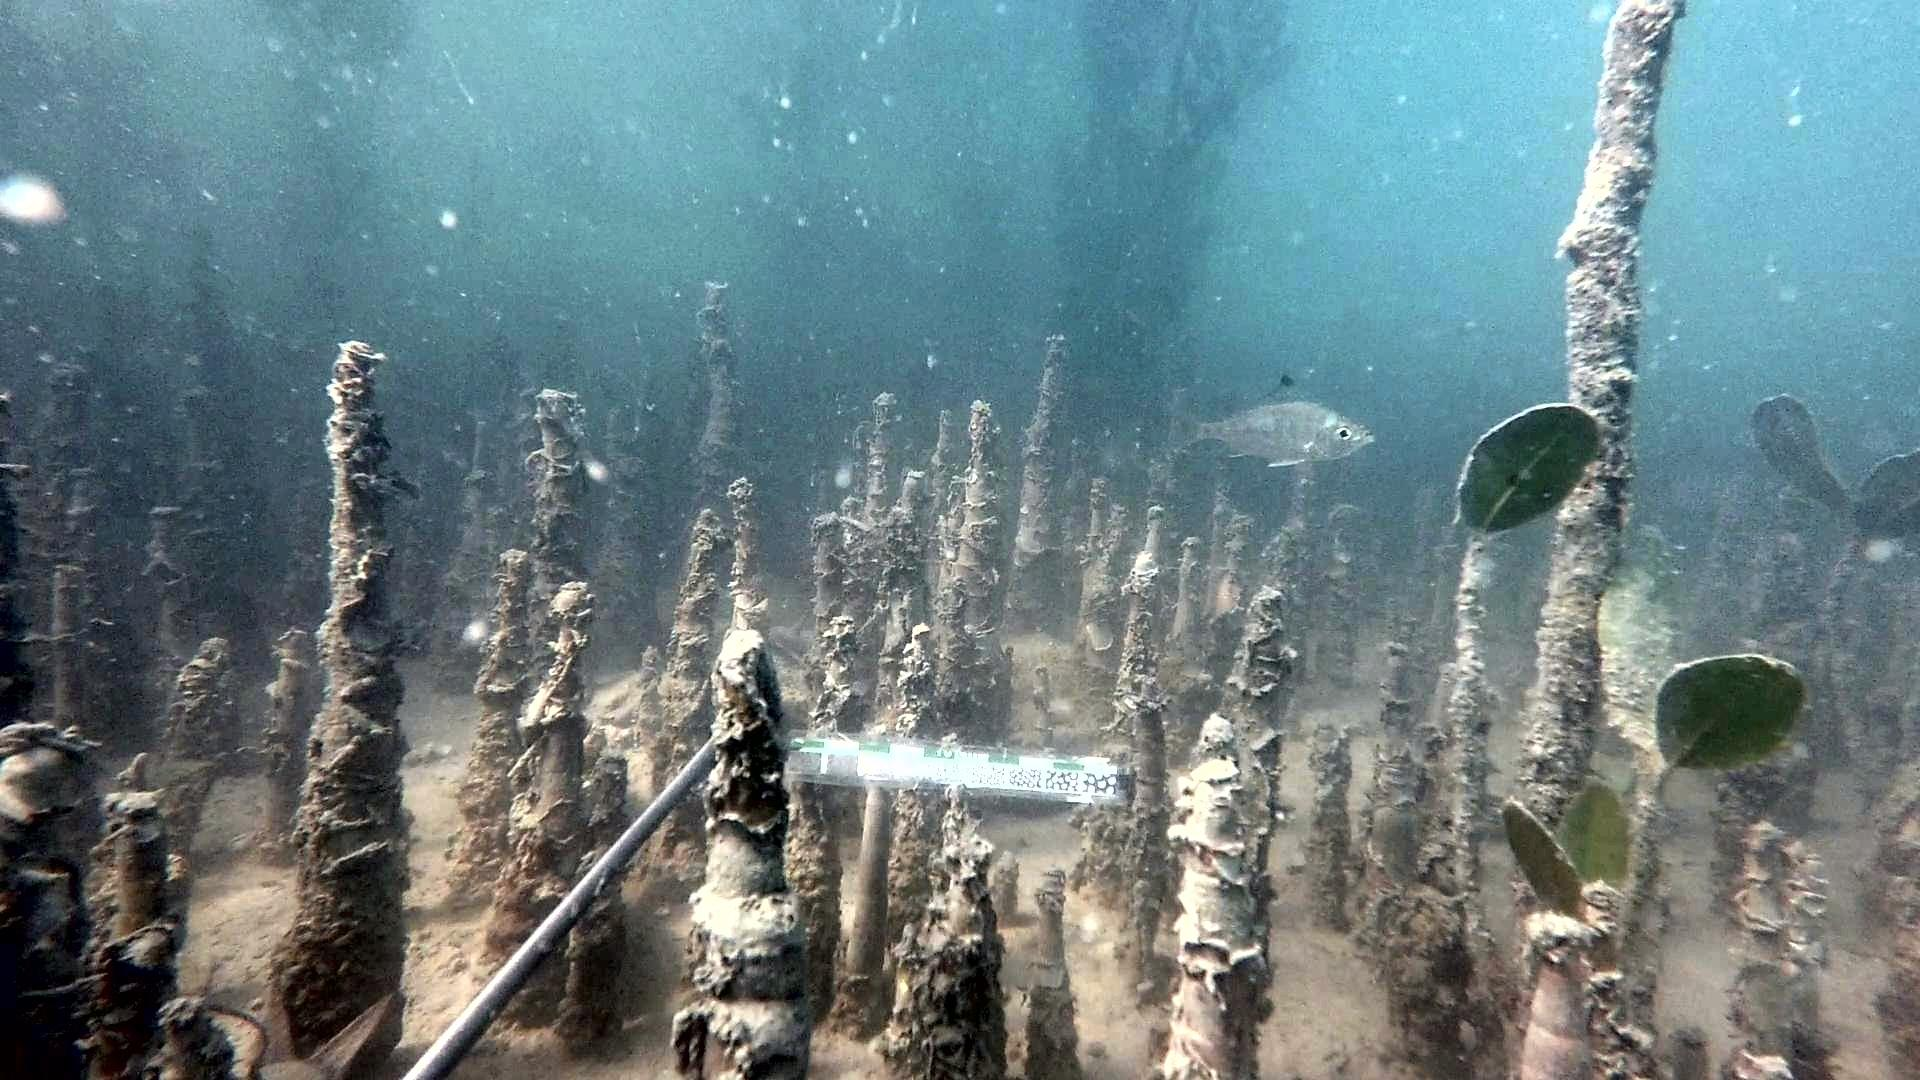gerres: (1164, 372, 1377, 469)
